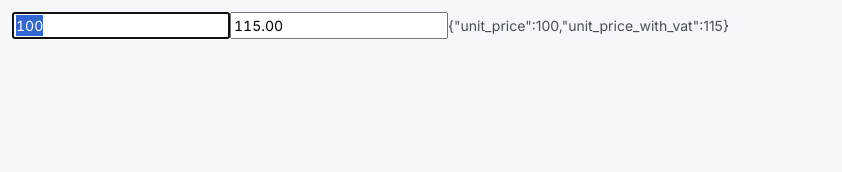
it: PriceInput › limits the price to 8 decimals
Step 1. Replace the text in the field with test id "ex" with "1.1234567891" → (121, 26), box [12,12,230,39]
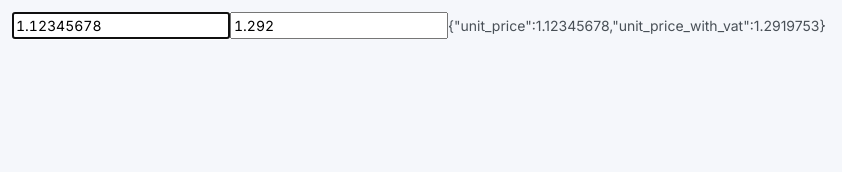
Expected: the field with test id "ex" holds "1.12345678", [12,12,230,39]
